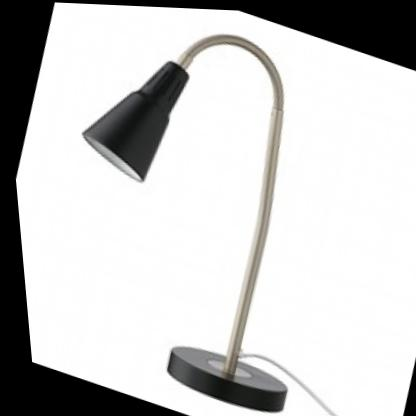Lamp: (0, 0, 396, 416)
